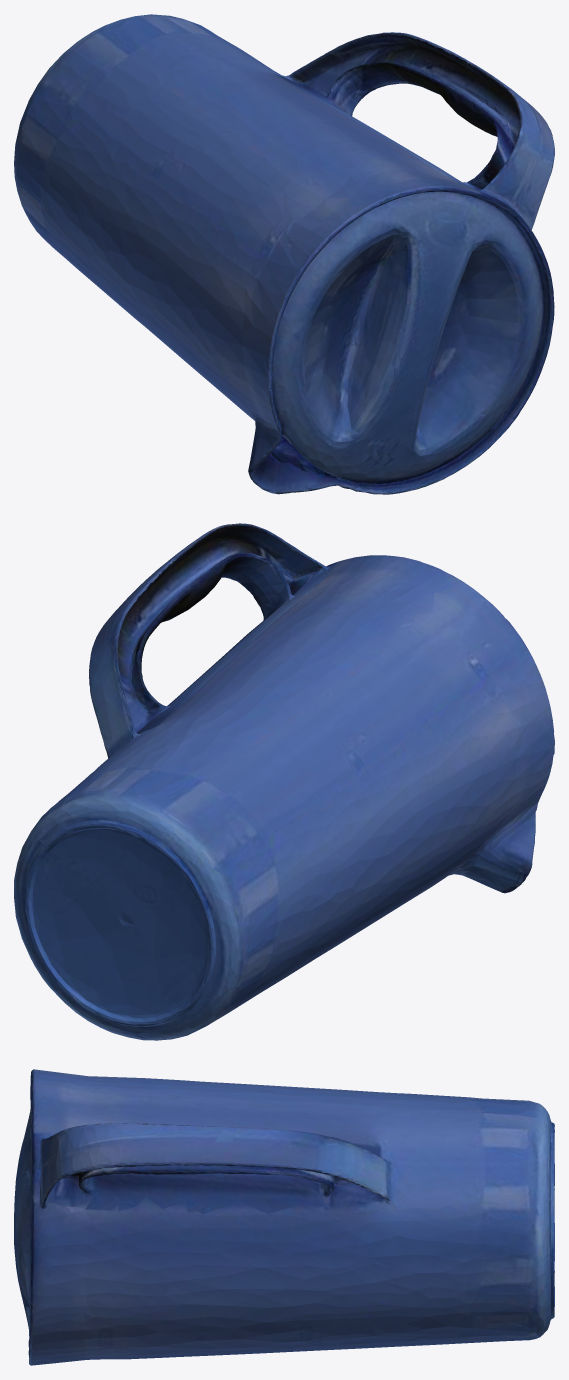
The picture shows the model from 3 angles, top to bottom: view 1: azimuth 30°, elevation 25°; view 2: azimuth 150°, elevation 25°; view 3: azimuth 270°, elevation 25°; orthographic projection. The views are drawn at different scales.
Parts seen in each view (by area): view 1: geometry_0; view 2: geometry_0; view 3: geometry_0.
Boxes of the visible parts, x1,y1,x2,y2 form: geometry_0: (14, 14, 554, 494); geometry_0: (14, 523, 554, 1040); geometry_0: (14, 1069, 554, 1365).
Size of the model in its own units: 0.1491 by 0.1449 by 0.2423.
1 material, 1 textured.
